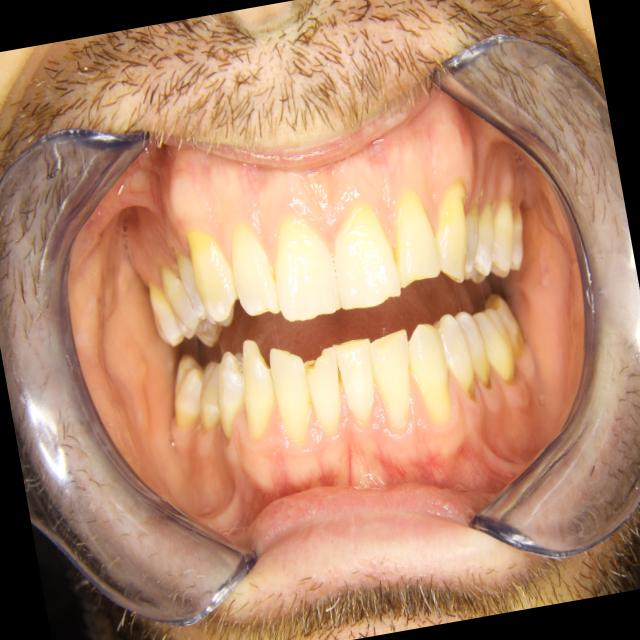tooth: (259, 200, 346, 331), (322, 194, 407, 317), (356, 316, 428, 447), (415, 171, 486, 294), (219, 211, 288, 329), (260, 333, 326, 450), (381, 179, 447, 294), (399, 311, 461, 431), (182, 218, 246, 333), (326, 325, 386, 440), (297, 337, 356, 447), (230, 331, 286, 445), (429, 306, 484, 413), (204, 342, 262, 442), (446, 297, 498, 400), (470, 297, 522, 392), (162, 346, 218, 434), (183, 353, 238, 437), (168, 234, 216, 328), (155, 254, 202, 345), (448, 191, 493, 286), (480, 283, 530, 366), (481, 192, 526, 282), (142, 270, 188, 353), (463, 196, 507, 282), (499, 198, 533, 271)
